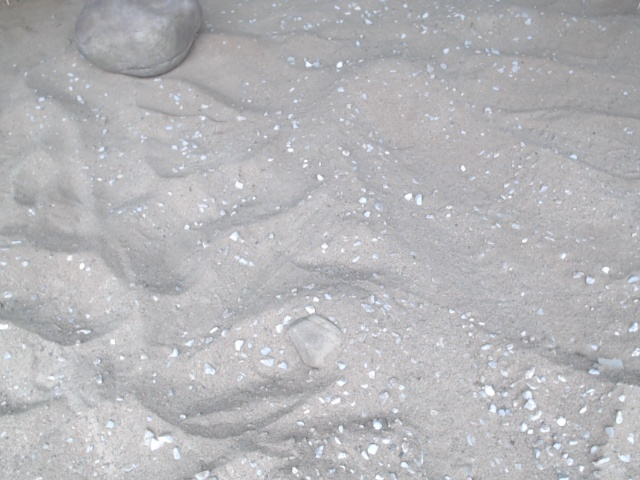rock: (69, 1, 209, 83), (278, 311, 350, 375)
